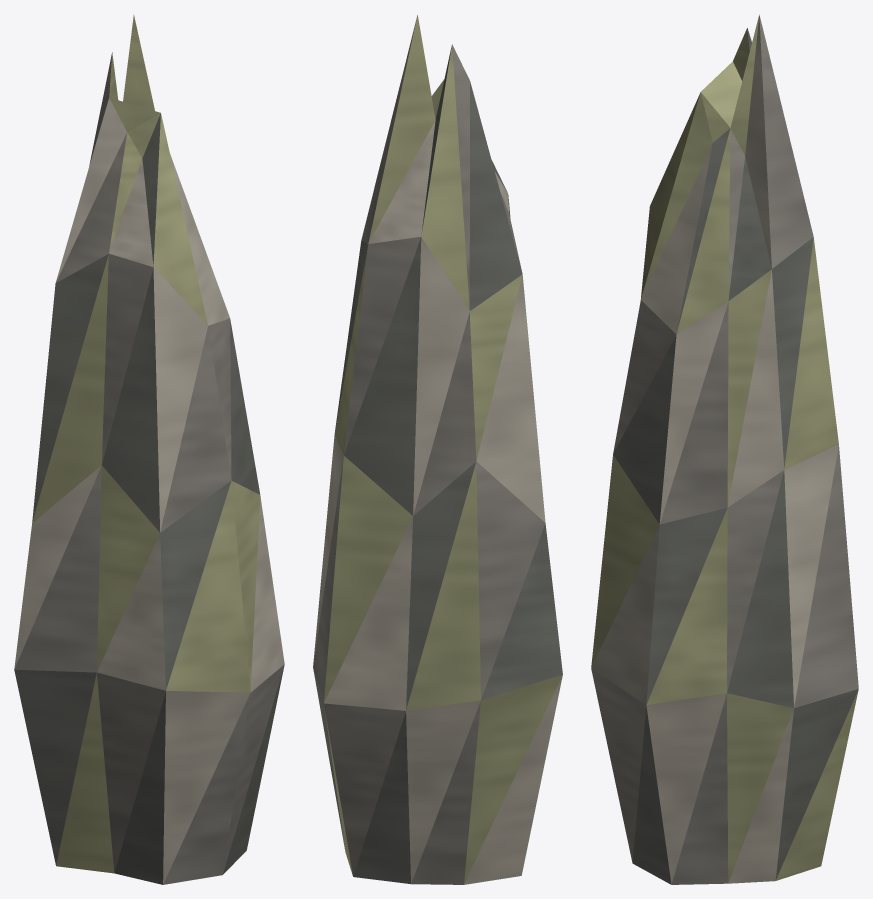
Rendered from stone_menhir_02.fbx.
3 views of the same model, side by side, from view 1: azimuth 30°, elevation 25°; view 2: azimuth 150°, elevation 25°; view 3: azimuth 270°, elevation 25° (orthographic). The views are drawn at different scales.
Visible parts, largest first — view 1: stone_menhir_02; view 2: stone_menhir_02; view 3: stone_menhir_02.
Boxes of the visible parts, x1,y1,x2,y2 form: stone_menhir_02: (14, 14, 284, 884); stone_menhir_02: (313, 15, 562, 884); stone_menhir_02: (591, 14, 858, 884).
Size of the model in its own units: 99 by 345 by 100.
1 material, 1 textured.
